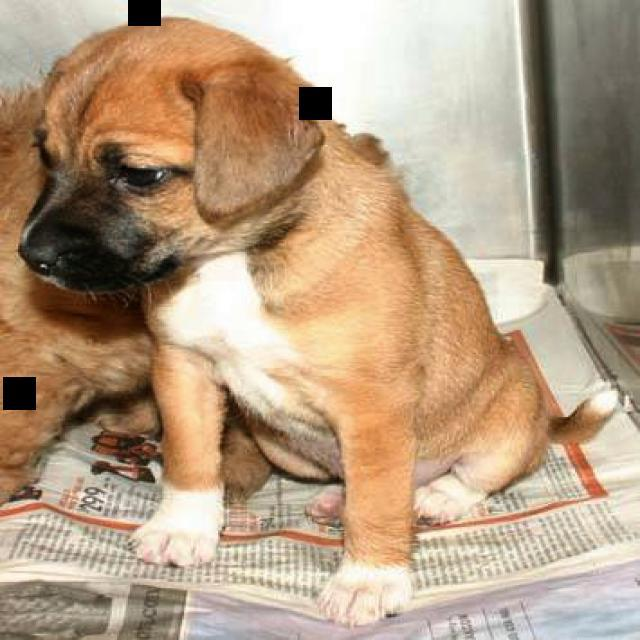puppy-dog: (18, 12, 625, 622), (1, 83, 276, 503)
